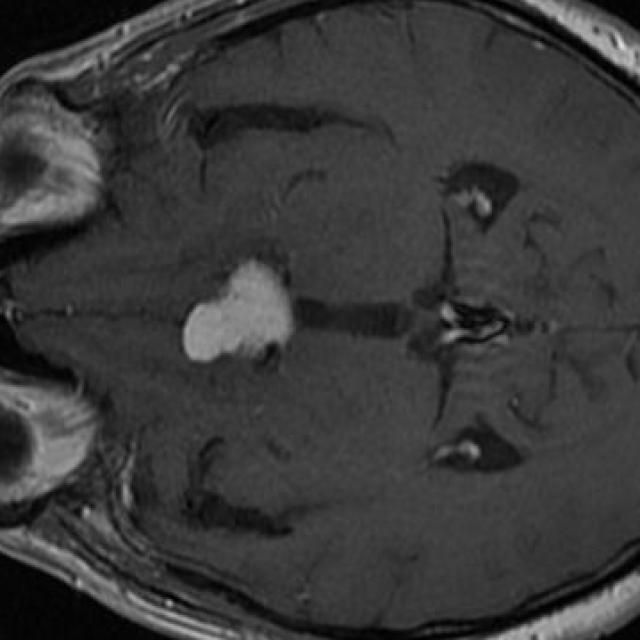meningioma: (182, 260, 294, 364)
